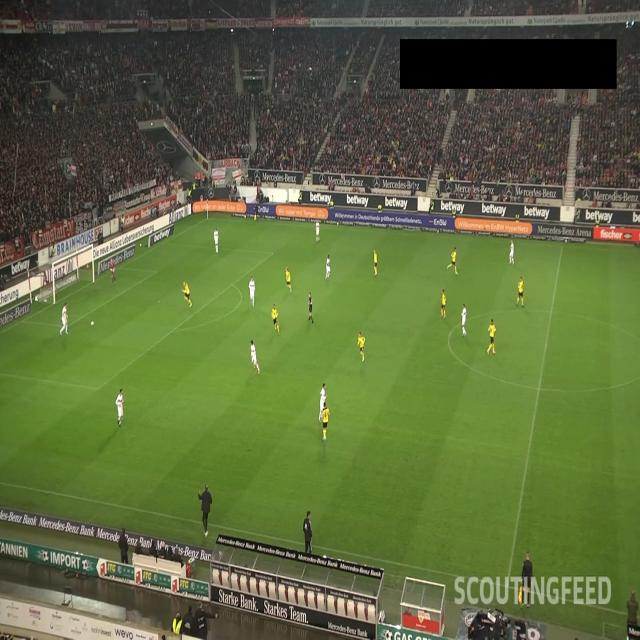ball: (91, 319, 94, 326)
